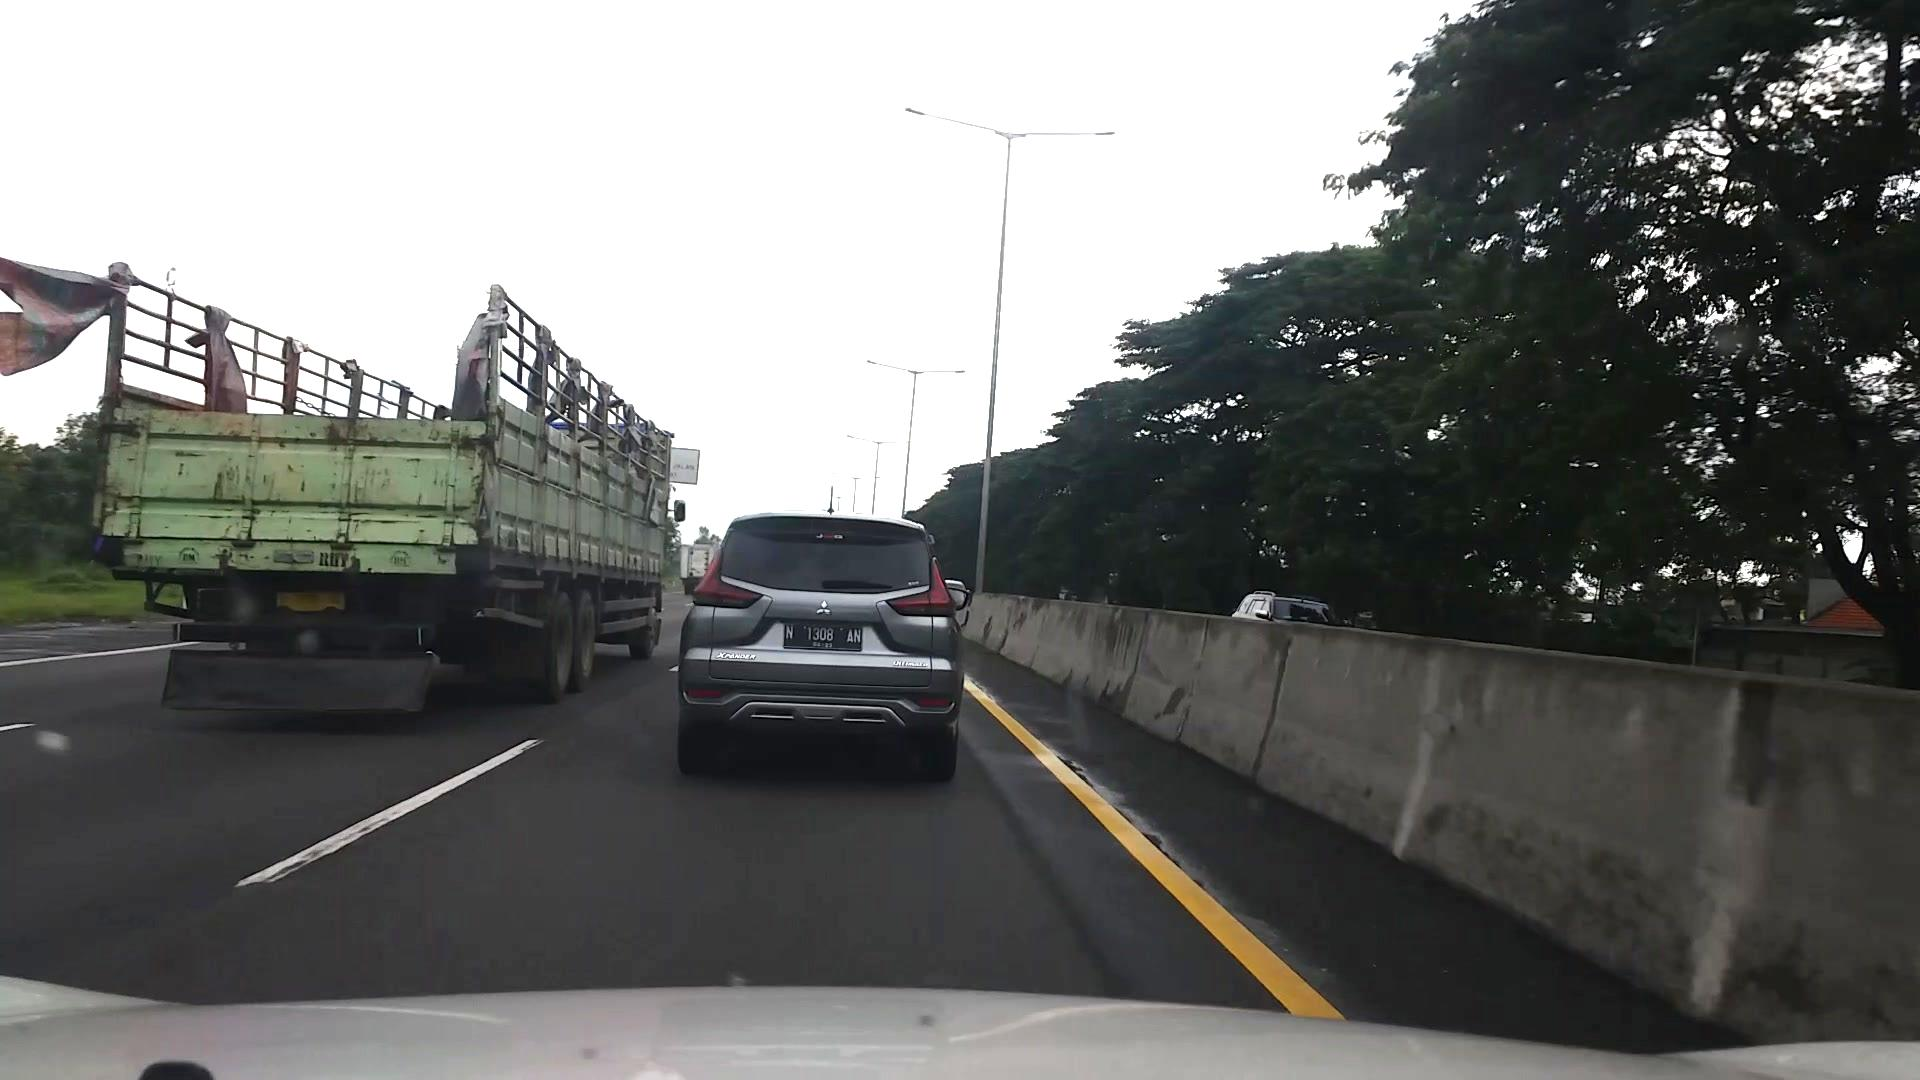plate_positive: (783, 621, 862, 651)
